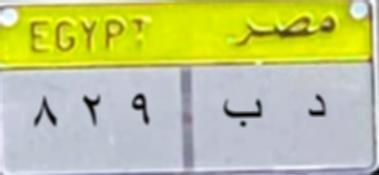2: (77, 88, 106, 132)
8: (26, 91, 64, 136)
9: (129, 89, 158, 132)
baa: (219, 90, 267, 135)
daal: (298, 92, 332, 127)
